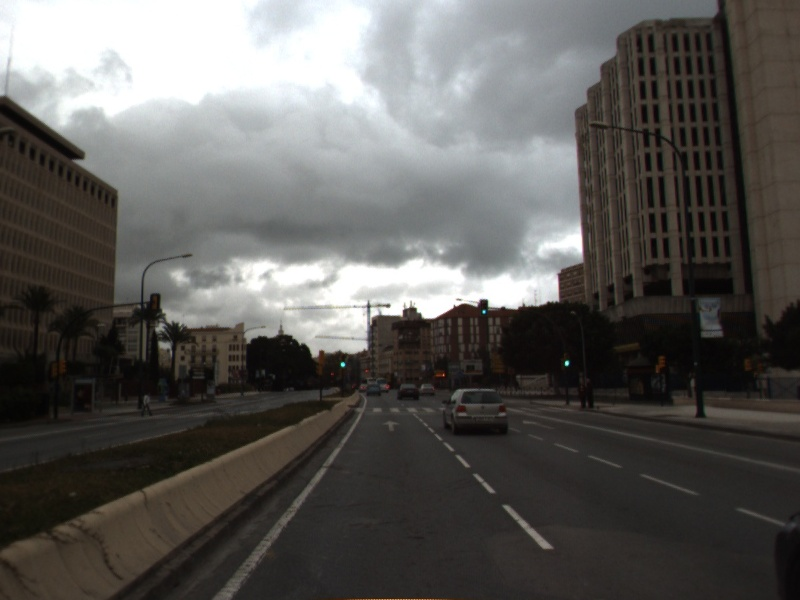STRAIGHT: (520, 417, 559, 432), (380, 418, 402, 433)
